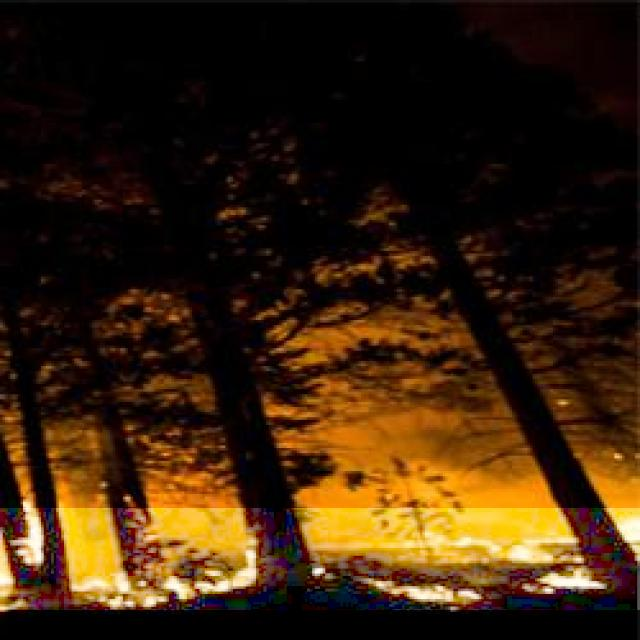Fire: (0, 508, 640, 610)
